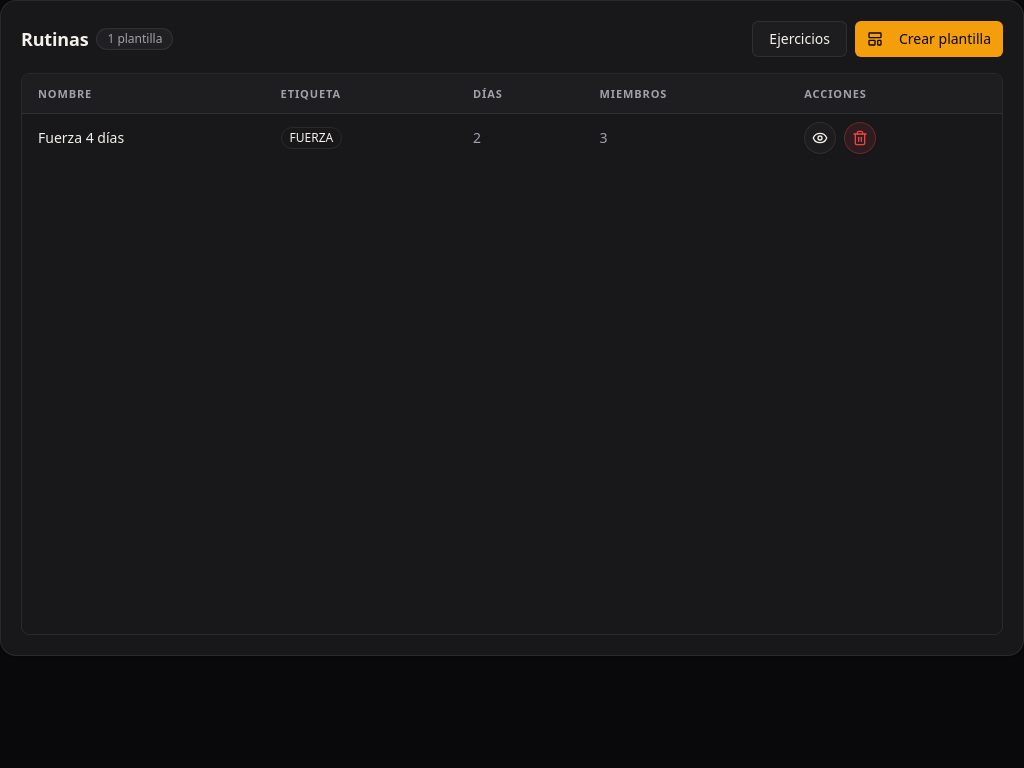
Test: vista de Rutinas › muestra el error del backend cuando el nombre de plantilla ya esta en uso
The width and height of the screenshot is (1024, 768).
Expected: the text "Fuerza 4 días" is shown, [22,114,265,162]
Step 1. Click the button "Crear plantilla" → (929, 39), box [855,21,1003,57]
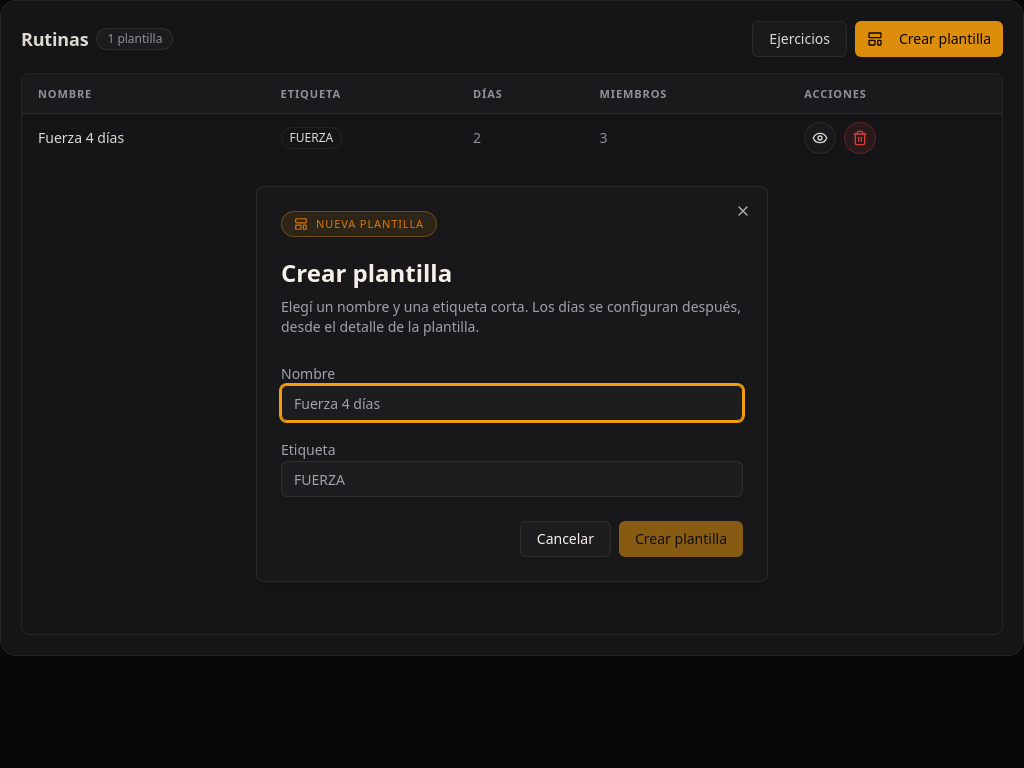
Step 2. Type "FUERZA 4 DIAS" into the field with placeholder "Fuerza 4 días" → (512, 403), box [281,385,743,421]
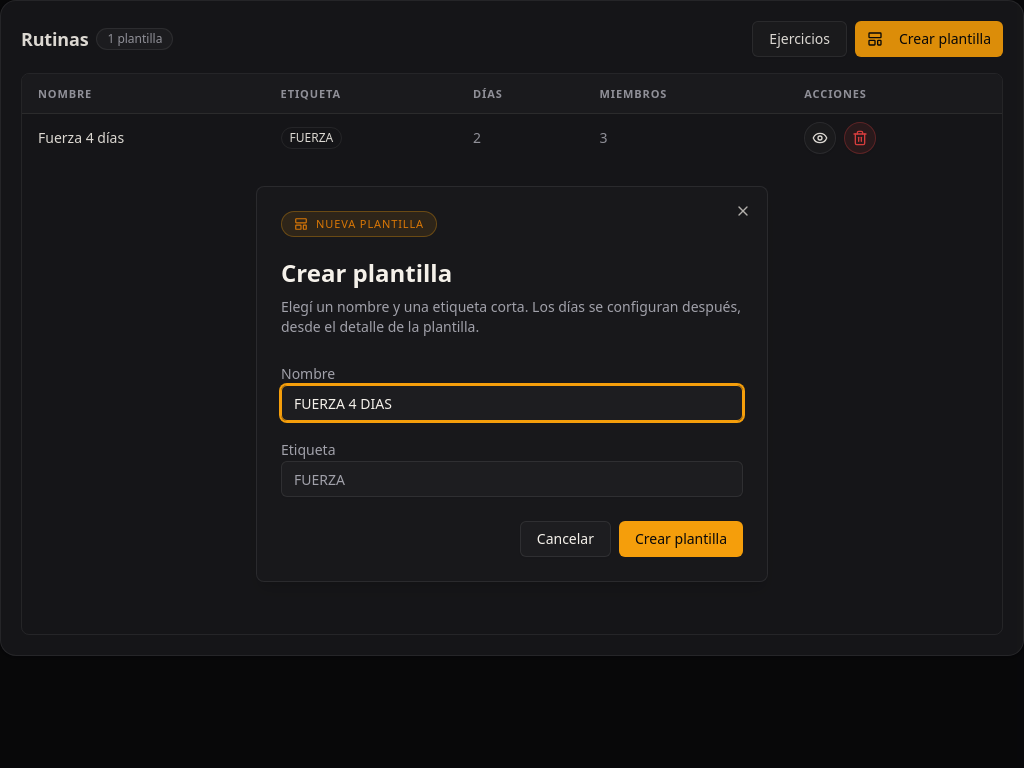
Step 3. Click the button "Crear plantilla" → (681, 539), box [619,521,743,557]
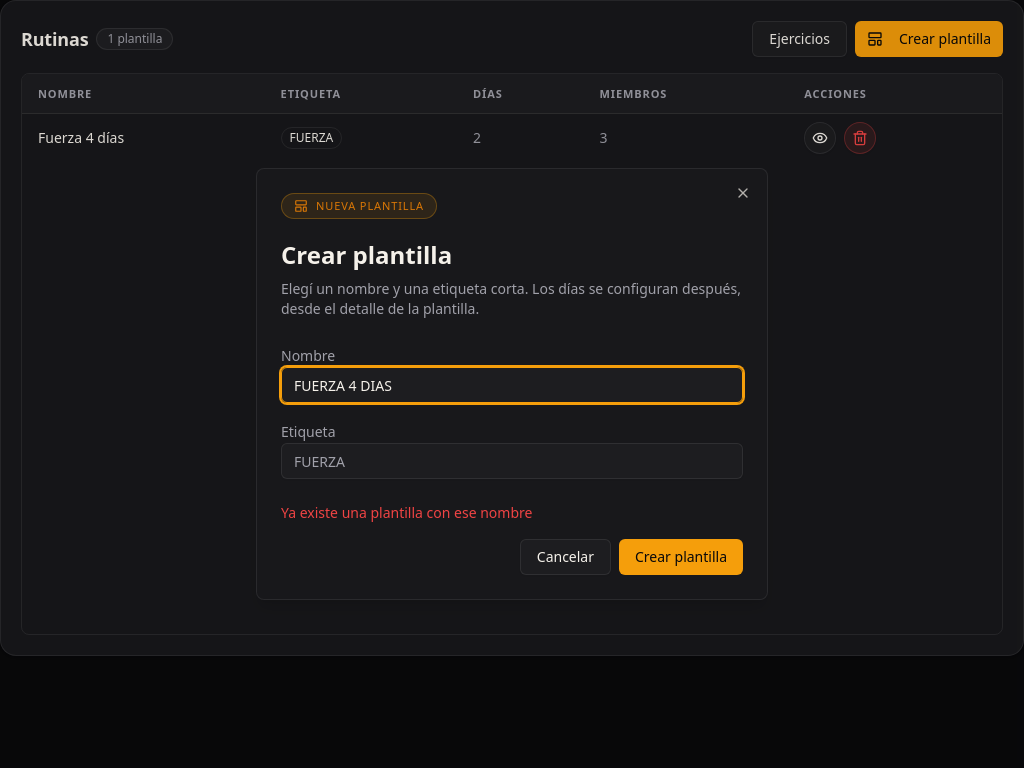
Expected: the message reads "Ya existe una plantilla con ese nombre", [281,503,532,522]
